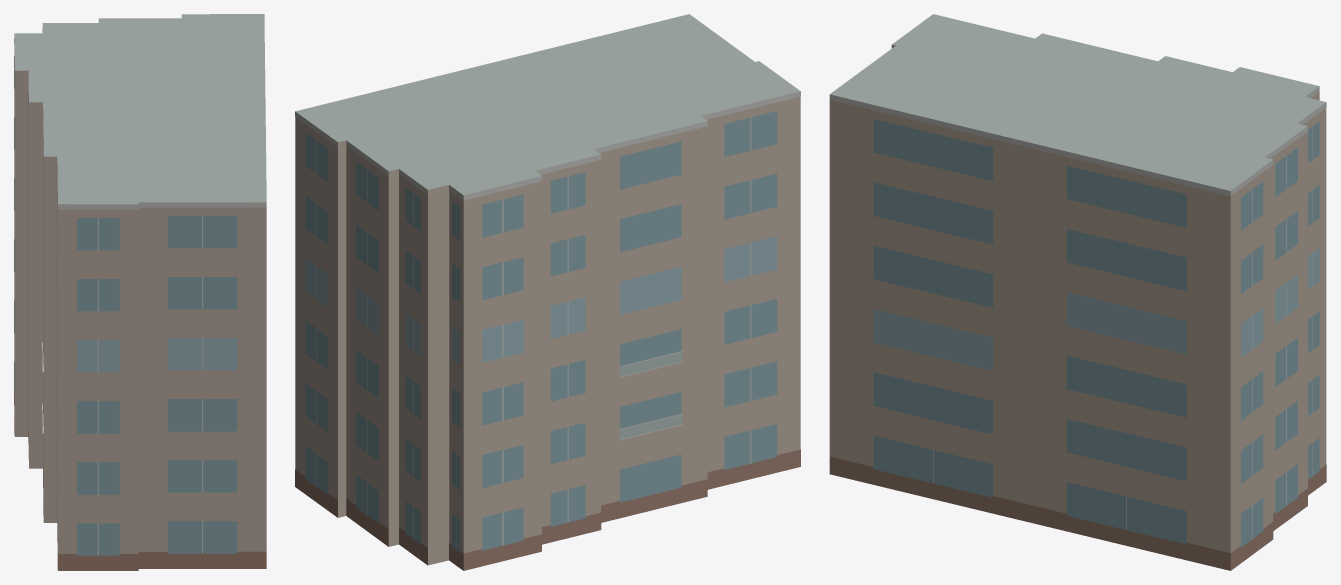
Rendered from survey-upis-32754614.glb.
The picture shows the model from 3 angles, left to right: view 1: azimuth 30°, elevation 25°; view 2: azimuth 150°, elevation 25°; view 3: azimuth 270°, elevation 25°; orthographic projection. The views are drawn at different scales.
Parts seen in each view (by area): view 1: survey-upis-32754614.tmp; view 2: survey-upis-32754614.tmp; view 3: survey-upis-32754614.tmp.
Part boxes in pixels (x1=…): survey-upis-32754614.tmp: x1=14, y1=14, x2=266, y2=570; survey-upis-32754614.tmp: x1=295, y1=14, x2=800, y2=570; survey-upis-32754614.tmp: x1=829, y1=14, x2=1326, y2=570.
Size of the model in its own units: 17.3 by 17.3 by 20.52.
